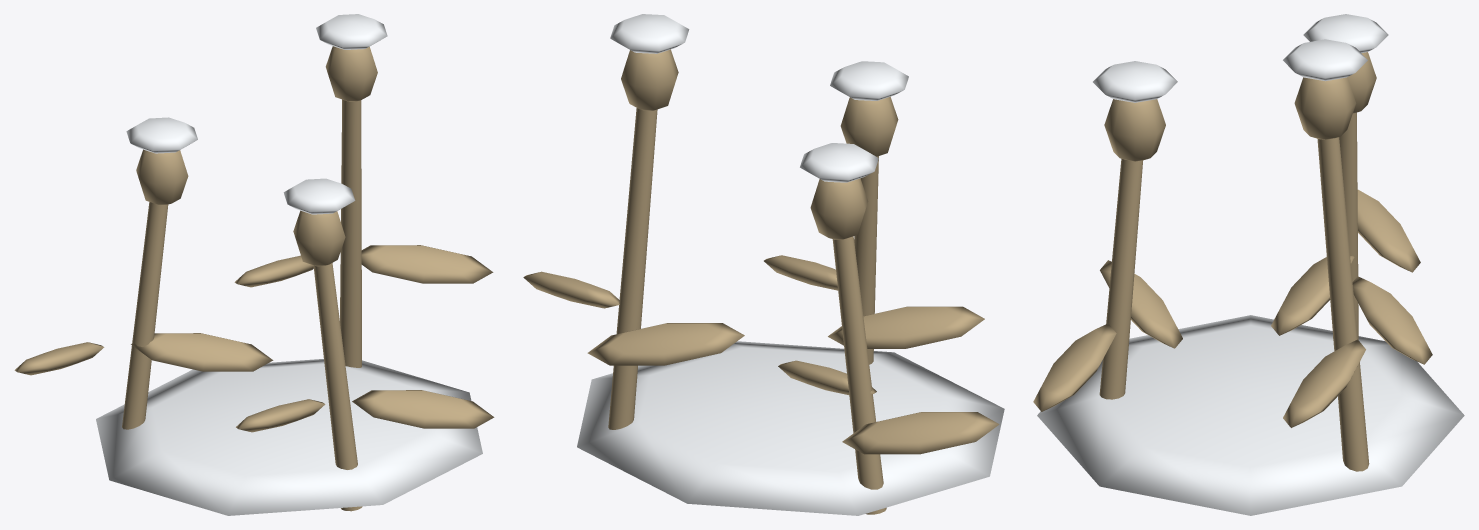
Rendered from flower_4_winter.glb.
3 views of the same model, side by side, from view 1: azimuth 30°, elevation 25°; view 2: azimuth 150°, elevation 25°; view 3: azimuth 270°, elevation 25° (orthographic). The views are drawn at different scales.
Size of the model in its own units: 0.5021 by 0.4172 by 0.3631.
